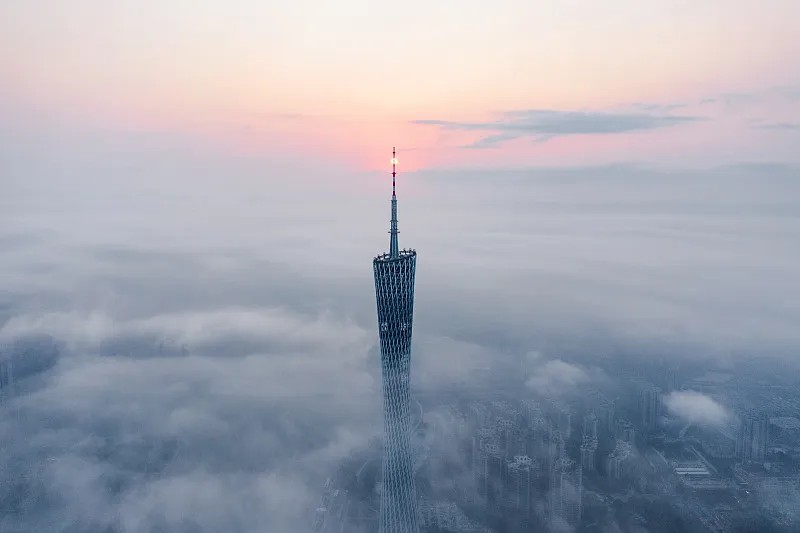Canton: (364, 142, 426, 533)
